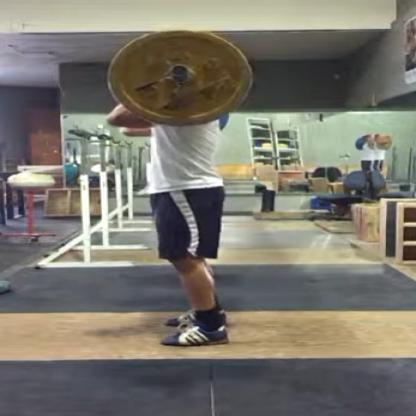barbell: (107, 28, 256, 122)
